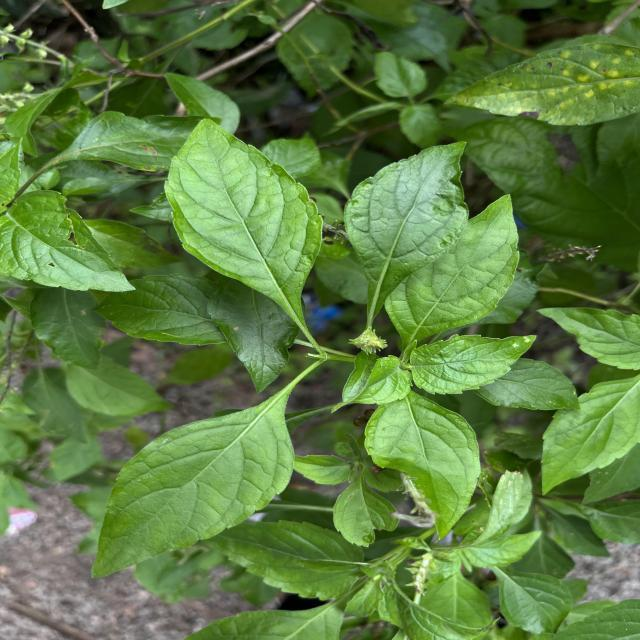Ocimum gratissimum: (88, 385, 298, 582), (160, 114, 326, 346), (341, 138, 474, 328), (382, 191, 523, 343), (360, 392, 486, 542), (0, 187, 141, 296), (538, 373, 640, 498), (408, 331, 539, 398), (535, 304, 640, 372)
